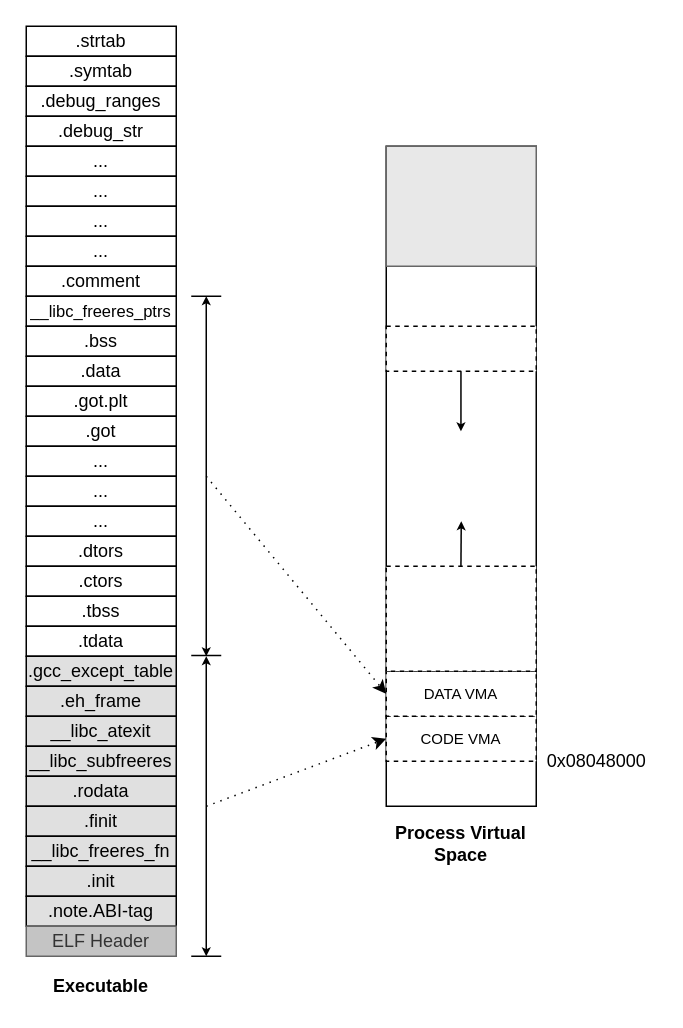
Some shapes in this 683 by 1028 pixel diagram are drawn without their labels. The centre of each missing label's shape, as x and y in pixels:
HEAP VMA: the point at 460,618
Operating System: the point at 460,205
STACK VMA: the point at 460,348
